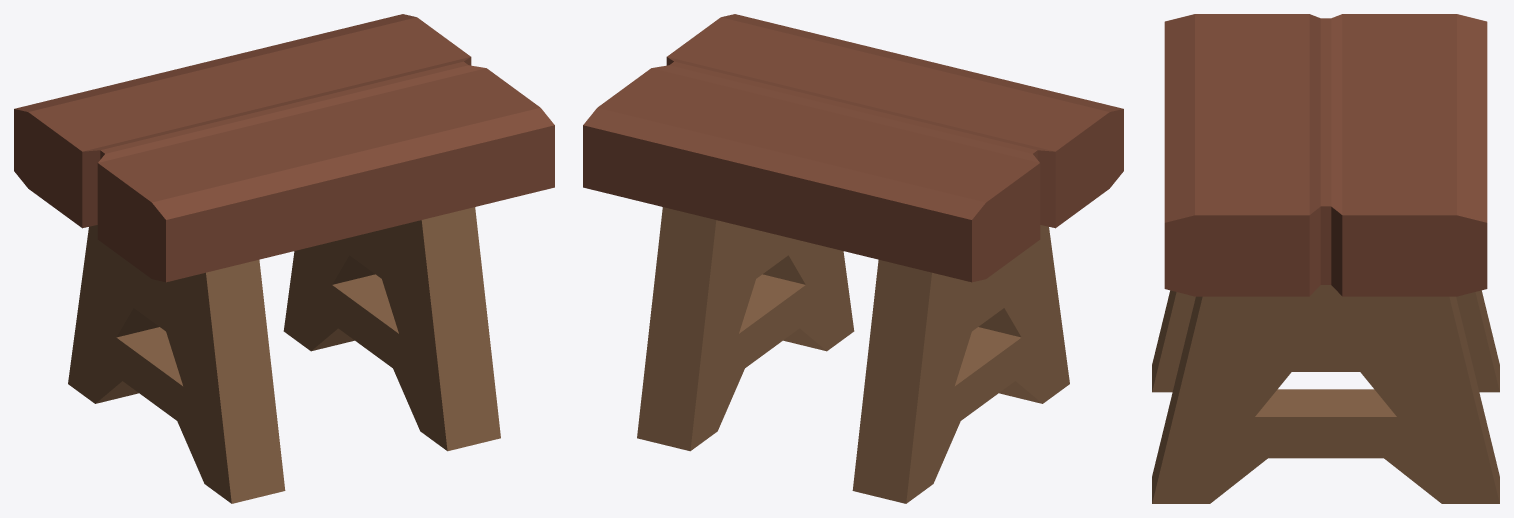
The model's file is market-stool2.fbx.
3 views of the same model, side by side, from view 1: azimuth 30°, elevation 25°; view 2: azimuth 150°, elevation 25°; view 3: azimuth 270°, elevation 25° (orthographic). The views are drawn at different scales.
Visible parts, largest first — view 1: Cube.596; view 2: Cube.596; view 3: Cube.596.
Boxes of the visible parts, x1,y1,x2,y2 form: Cube.596: (14,14,554,503); Cube.596: (583,14,1123,503); Cube.596: (1152,14,1499,503).
Bounding box in the file's own units: 123 × 91.36 × 89.44.
